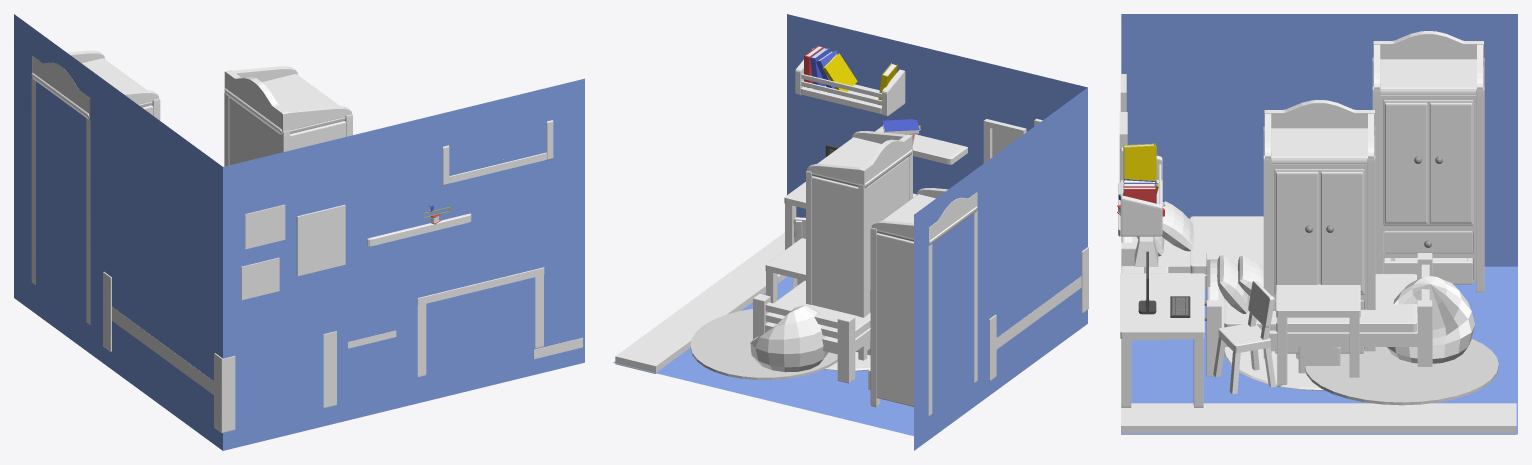
File: roomv2.glb
3 renders of one model, left to right at view 1: azimuth 30°, elevation 25°; view 2: azimuth 150°, elevation 25°; view 3: azimuth 270°, elevation 25°, orthographic. The views are drawn at different scales.
Parts seen in each view (by area): view 1: Wall, Wardrobe, Wardrobe 1, Bed 1, Picture 1.001, Table 1, Picture 2.001, Wall bookshelf.001, Picture 3.001, Wall shelf.001; view 2: Wall, Wardrobe, Wardrobe 1, Floor, Wood floor, Carpet 1, Bed, Wood floor 1, Seat 1, Wall bookshelf.001, Bed 1, Book stack 2.001 (+5 smaller); view 3: Wall, Wardrobe 1, Wardrobe, Floor, Bed, Wood floor, Carpet 1, Wood floor 1, Table 1, Bed 1, Table, Seat 1 (+9 smaller).
Boxes of the visible parts, box(x1,y1,x2,y2) form: Wall: box(14, 14, 584, 450); Wardrobe: box(224, 66, 352, 166); Wardrobe 1: box(31, 50, 160, 324); Bed 1: box(103, 272, 336, 432); Picture 1.001: box(296, 204, 345, 276); Table 1: box(417, 267, 544, 376); Picture 2.001: box(245, 204, 285, 249); Wall bookshelf.001: box(442, 120, 553, 185); Picture 3.001: box(241, 257, 279, 300); Wall shelf.001: box(367, 213, 471, 246); Wall: box(787, 14, 1087, 450); Wardrobe: box(806, 131, 912, 360); Wardrobe 1: box(868, 188, 977, 415); Floor: box(613, 276, 913, 435); Wood floor: box(618, 233, 784, 359); Carpet 1: box(690, 309, 837, 380); Bed: box(753, 280, 870, 383); Wood floor 1: box(615, 232, 787, 373); Seat 1: box(750, 305, 828, 372); Wall bookshelf.001: box(795, 48, 905, 116); Bed 1: box(989, 247, 1088, 381); Book stack 2.001: box(804, 45, 857, 91); Wall: box(1121, 14, 1517, 266); Wardrobe 1: box(1372, 31, 1484, 292); Wardrobe: box(1263, 100, 1375, 358); Floor: box(1121, 266, 1517, 434); Bed: box(1206, 253, 1432, 376); Wood floor: box(1125, 403, 1511, 425); Carpet 1: box(1305, 339, 1498, 405); Wood floor 1: box(1121, 403, 1516, 434); Table 1: box(1120, 273, 1206, 407); Bed 1: box(1121, 201, 1263, 288); Table: box(1276, 284, 1360, 386); Seat 1: box(1387, 276, 1474, 363).
Size of the model in its own units: 8.03 by 6.25 by 8.09.
